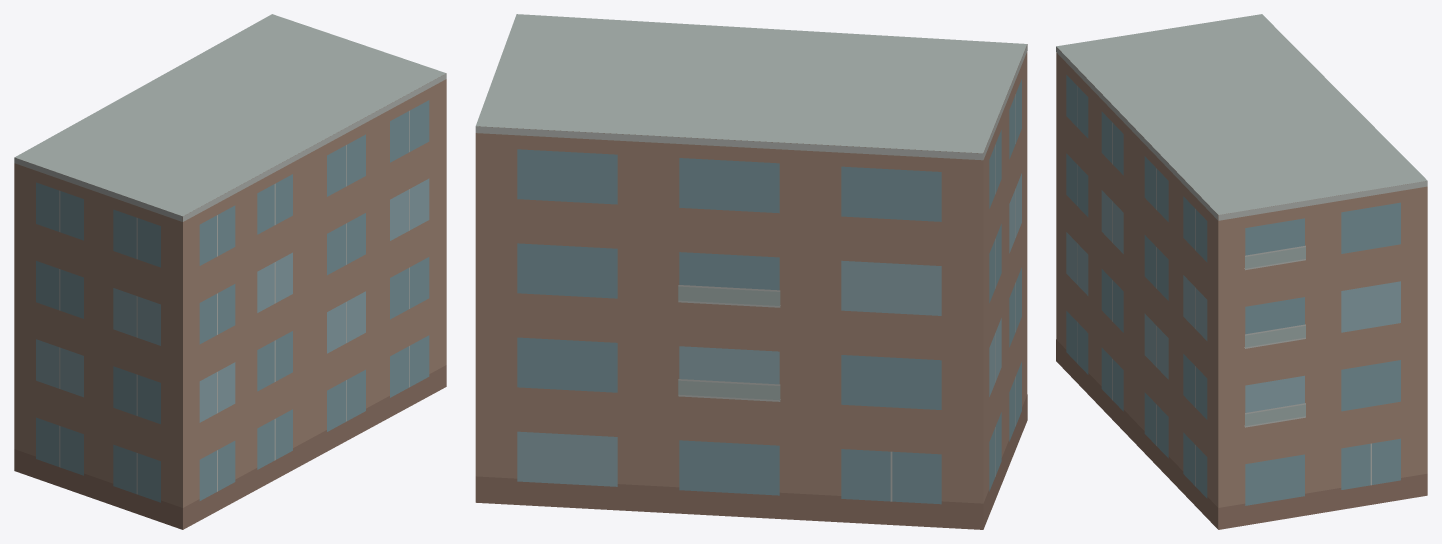
Rendered from survey-upis-33046801.glb.
3 renders of one model, left to right at view 1: azimuth 30°, elevation 25°; view 2: azimuth 150°, elevation 25°; view 3: azimuth 270°, elevation 25°, orthographic. The views are drawn at different scales.
Visible parts, largest first — view 1: survey-upis-33046801.tmp; view 2: survey-upis-33046801.tmp; view 3: survey-upis-33046801.tmp.
Part boxes in pixels (x1,y1,x2,y2): survey-upis-33046801.tmp: [14, 14, 446, 529]; survey-upis-33046801.tmp: [475, 14, 1027, 529]; survey-upis-33046801.tmp: [1056, 14, 1427, 529].
Bounding box in the file's own units: 18.3 × 13.35 × 14.29.
